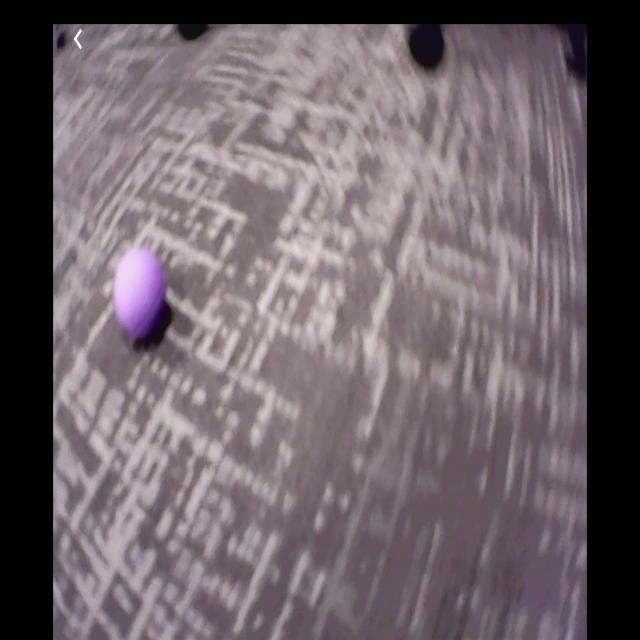ball: (113, 250, 165, 337)
